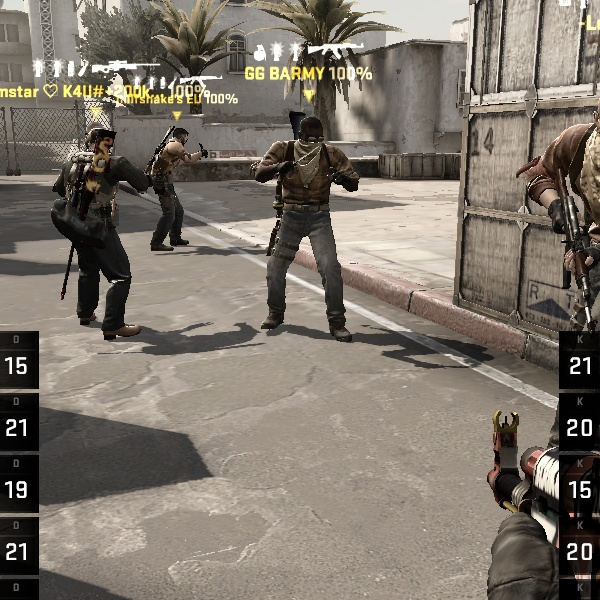t_body: (240, 108, 370, 343), (29, 120, 157, 347), (136, 120, 212, 256)
t_head: (287, 109, 334, 157), (78, 120, 123, 167)
